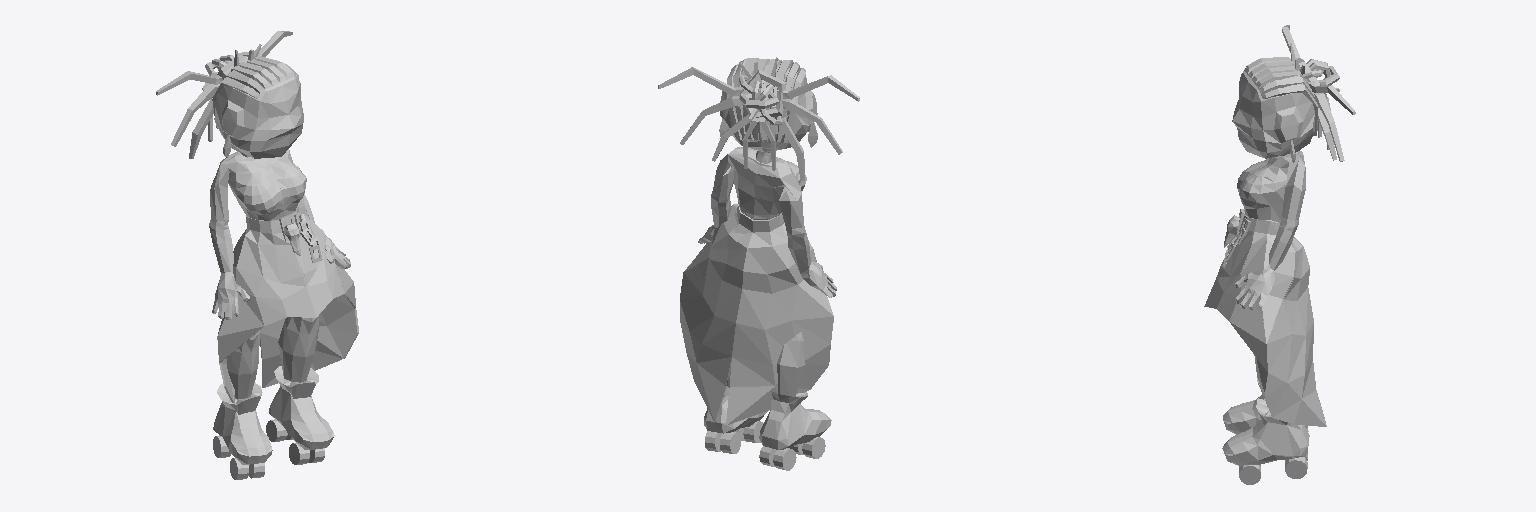
The model's file is bruja_000017.obj.
3 views of the same model, side by side, from view 1: azimuth 30°, elevation 25°; view 2: azimuth 150°, elevation 25°; view 3: azimuth 270°, elevation 25° (orthographic).
Parts seen in each view (by area): view 1: Bruja_Plane.001; view 2: Bruja_Plane.001; view 3: Bruja_Plane.001.
Part boxes in pixels (left/top/right/bottom): Bruja_Plane.001: left=156, top=31, right=358, bottom=479; Bruja_Plane.001: left=658, top=57, right=859, bottom=470; Bruja_Plane.001: left=1204, top=25, right=1355, bottom=484.
Bounding box in the file's own units: 8.01 × 16.48 × 5.5.